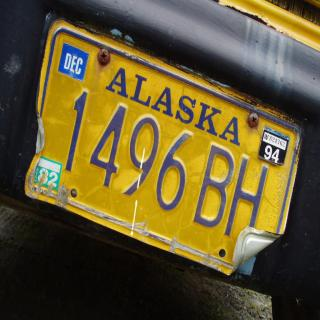license: (24, 16, 307, 277)
